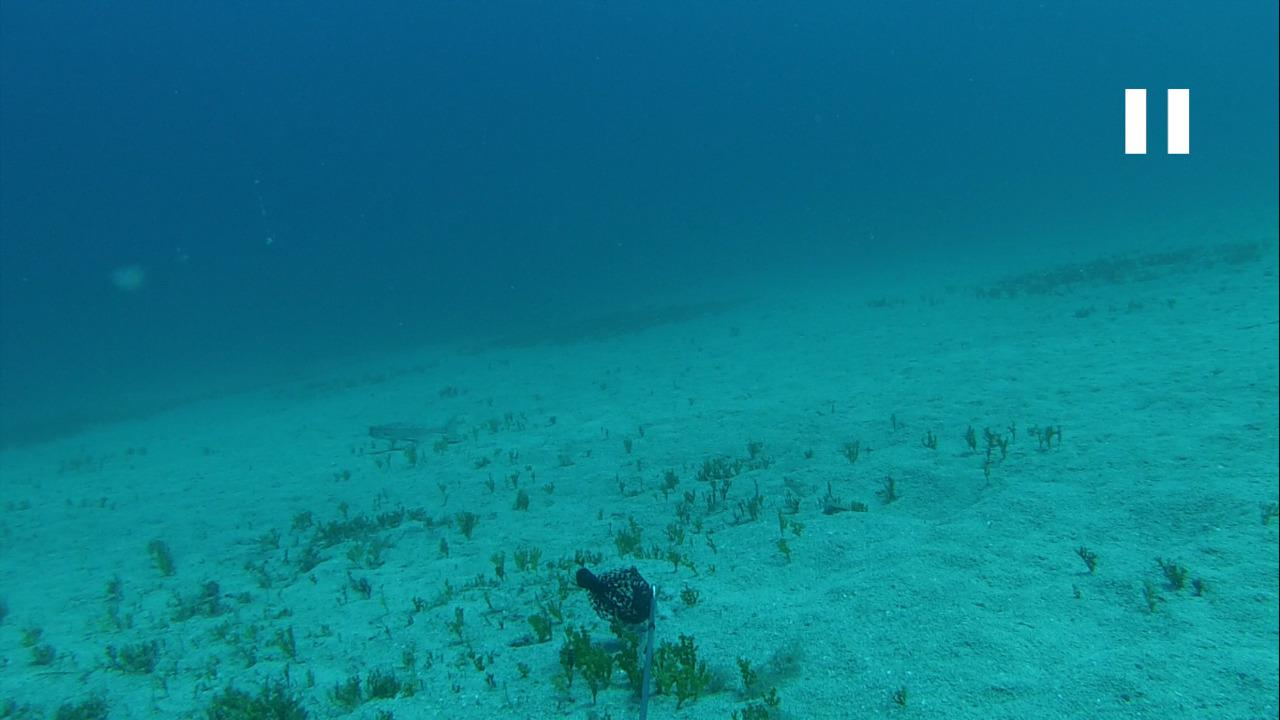dactylopterus: (355, 404, 465, 461)
